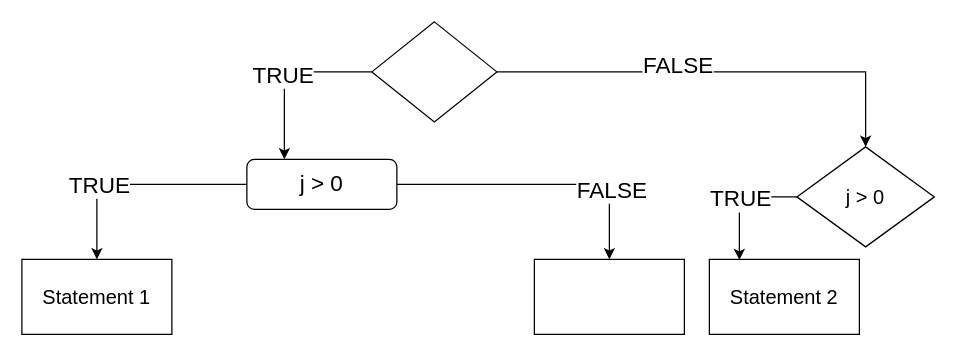
The diagram is 956 pixels wide and 356 high, and some of its shapes have lost their labels. The shapes that lost their labels are listed below. From the top down, each one's centre as x and y in pixels, then its label:
(434,71): i < 0
(608,296): Statement 3
